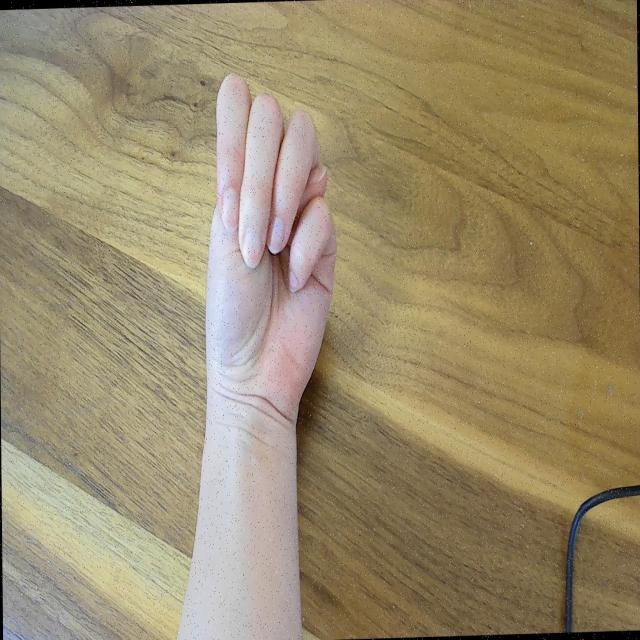M: (200, 66, 341, 422)
